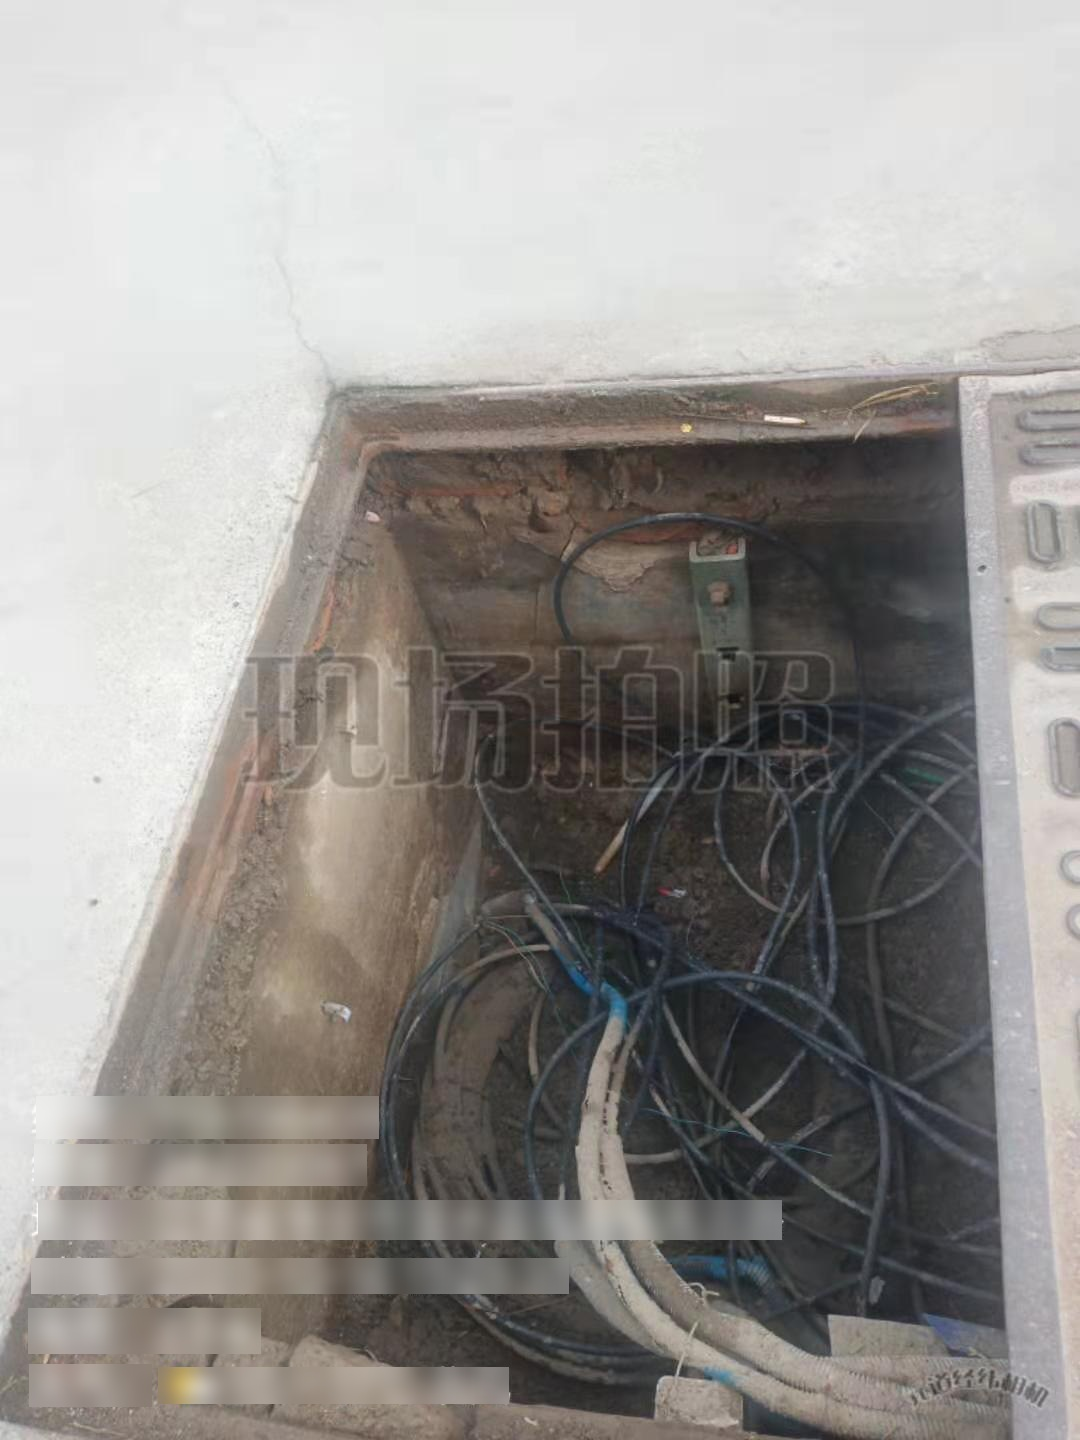lose: (11, 365, 1080, 1437)
